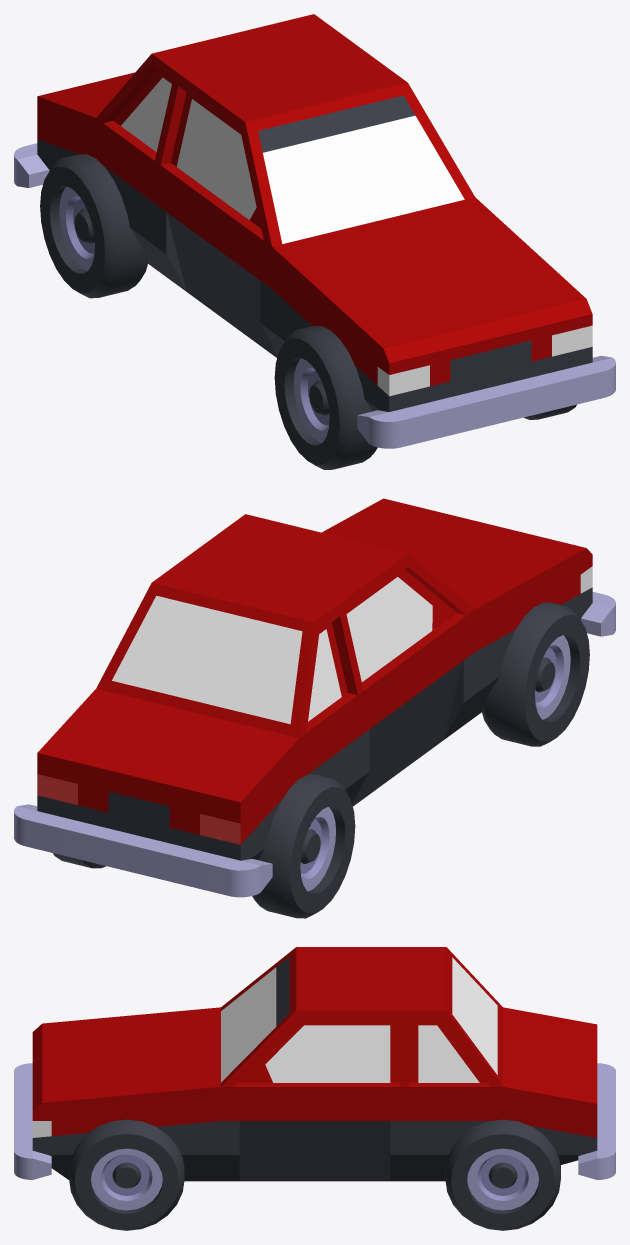
Rendered from redcar.fbx.
3 renders of one model, top to bottom at view 1: azimuth 30°, elevation 25°; view 2: azimuth 150°, elevation 25°; view 3: azimuth 270°, elevation 25°, orthographic. The views are drawn at different scales.
Visible parts, largest first — view 1: body_frontStandard, body_topStandard, wheel_standard (×2), body_edge, bumper (×2), body_backStandard, body_topBackStandard; view 2: body_backStandard, body_topBackStandard, wheel_standard (×2), body_topStandard, body_frontStandard, body_edge, bumper (×2); view 3: body_frontStandard, body_topStandard, wheel_standard (×2), body_edge, body_backStandard, body_topBackStandard, bumper (×2).
Boxes of the visible parts, x1=… form: body_frontStandard: x1=272, y1=197, x2=592, y2=411; body_topStandard: x1=155, y1=31, x2=474, y2=246; wheel_standard (×2): x1=40, y1=154, x2=377, y2=469; body_edge: x1=154, y1=161, x2=280, y2=357; bumper (×2): x1=14, y1=143, x2=615, y2=448; body_backStandard: x1=37, y1=72, x2=174, y2=282; body_topBackStandard: x1=96, y1=14, x2=337, y2=151; body_backStandard: x1=37, y1=688, x2=357, y2=860; body_topBackStandard: x1=96, y1=565, x2=347, y2=737; wheel_standard (×2): x1=252, y1=602, x2=589, y2=918; body_topStandard: x1=175, y1=514, x2=474, y2=695; body_frontStandard: x1=322, y1=498, x2=592, y2=731; body_edge: x1=349, y1=609, x2=475, y2=806; bumper (×2): x1=14, y1=592, x2=615, y2=897; body_frontStandard: x1=32, y1=1007, x2=220, y2=1181; body_topStandard: x1=221, y1=947, x2=408, y2=1086; wheel_standard (×2): x1=69, y1=1119, x2=560, y2=1230; body_edge: x1=221, y1=1083, x2=408, y2=1181; body_backStandard: x1=409, y1=1007, x2=597, y2=1181; body_topBackStandard: x1=409, y1=947, x2=502, y2=1086; bumper (×2): x1=14, y1=1063, x2=615, y2=1179.
Size of the model in its own units: 12.33 by 12.08 by 32.
